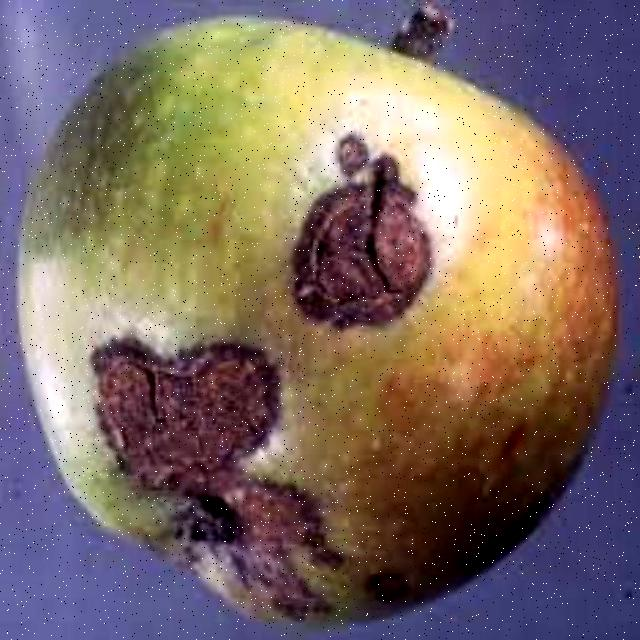SCAB: (42, 24, 578, 620)
